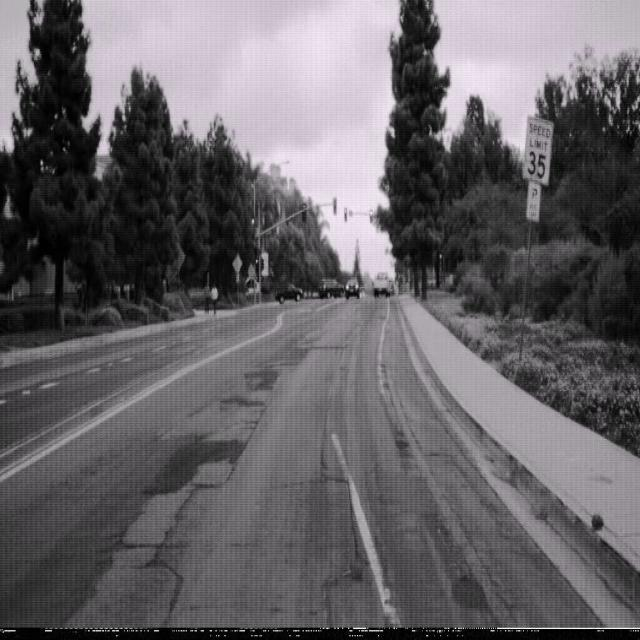speedLimit35: (522, 113, 554, 186)
